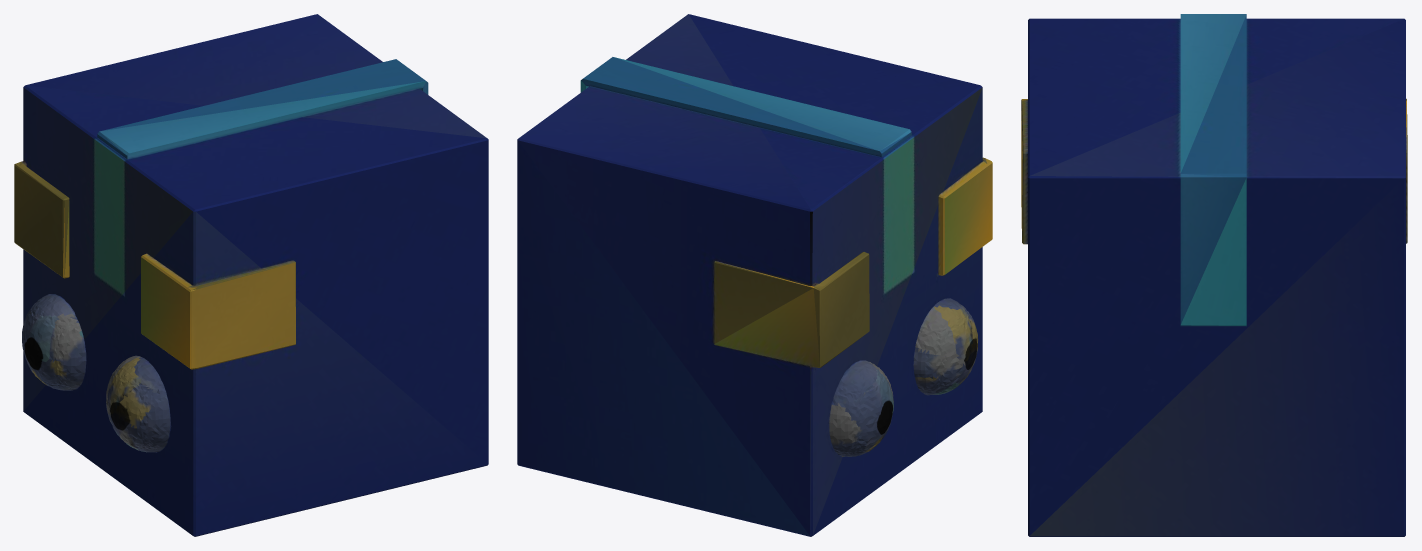
File: cube-crate.glb
3 renders of one model, left to right at view 1: azimuth 30°, elevation 25°; view 2: azimuth 150°, elevation 25°; view 3: azimuth 270°, elevation 25°, orthographic. The views are drawn at different scales.
Visible parts, largest first — view 1: tripo_node_3be9d705-db69-4b03-9677-bb6118568ff7; view 2: tripo_node_3be9d705-db69-4b03-9677-bb6118568ff7; view 3: tripo_node_3be9d705-db69-4b03-9677-bb6118568ff7.
Part boxes in pixels (bbox=[...]): tripo_node_3be9d705-db69-4b03-9677-bb6118568ff7: bbox=[14, 14, 488, 536]; tripo_node_3be9d705-db69-4b03-9677-bb6118568ff7: bbox=[517, 14, 992, 536]; tripo_node_3be9d705-db69-4b03-9677-bb6118568ff7: bbox=[1021, 14, 1407, 536].
Bounding box in the file's own units: 0.998 × 0.9434 × 0.9004.
Materials: 1 (1 with a texture image).
